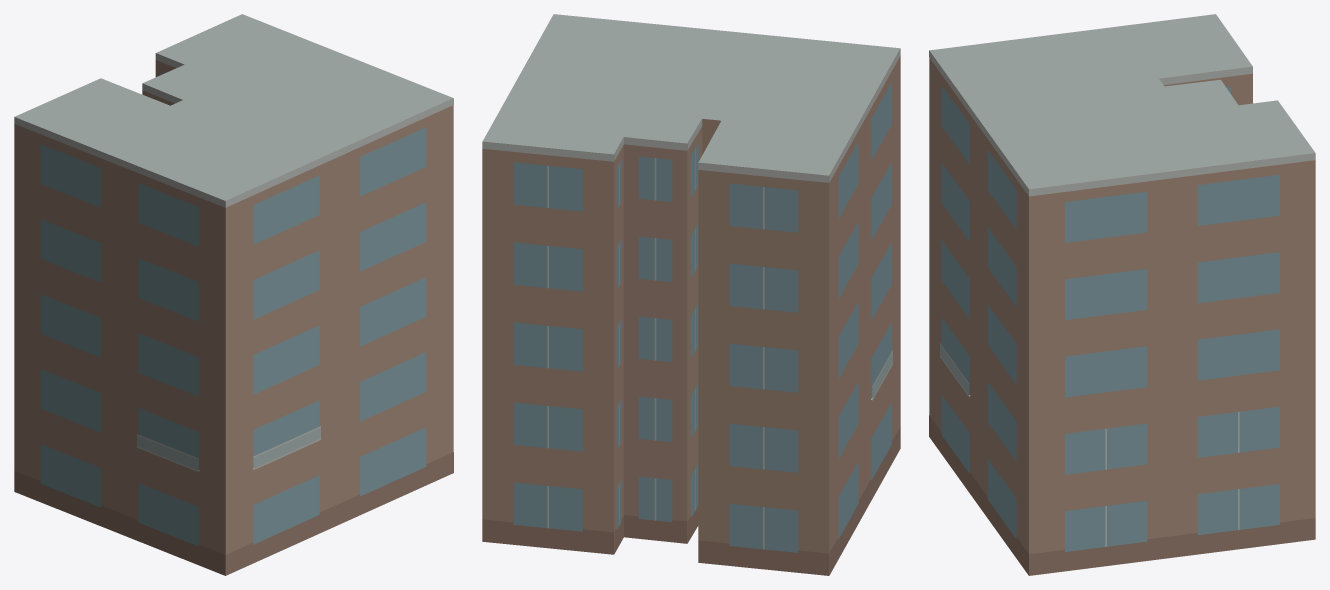
Rendered from survey-upis-32852289.glb.
3 views of the same model, side by side, from view 1: azimuth 30°, elevation 25°; view 2: azimuth 150°, elevation 25°; view 3: azimuth 270°, elevation 25° (orthographic). The views are drawn at different scales.
Parts seen in each view (by area): view 1: survey-upis-32852289.tmp; view 2: survey-upis-32852289.tmp; view 3: survey-upis-32852289.tmp.
Part boxes in pixels (<box>): survey-upis-32852289.tmp: <box>14,14,453,575</box>; survey-upis-32852289.tmp: <box>482,14,900,575</box>; survey-upis-32852289.tmp: <box>929,14,1315,575</box>.
Bounding box in the file's own units: 13.06 × 13.4 × 12.15.
